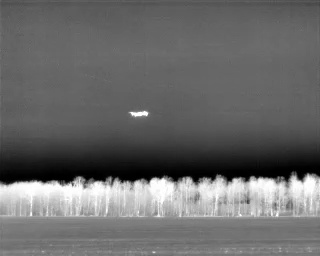DRONE: (125, 106, 153, 122)
